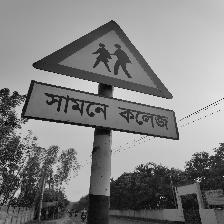College-in-front: (23, 18, 198, 153)
